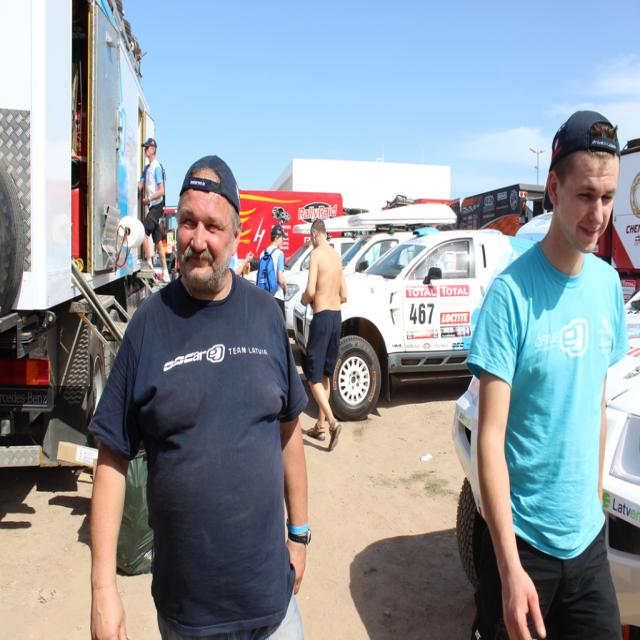car: (263, 187, 544, 426)
